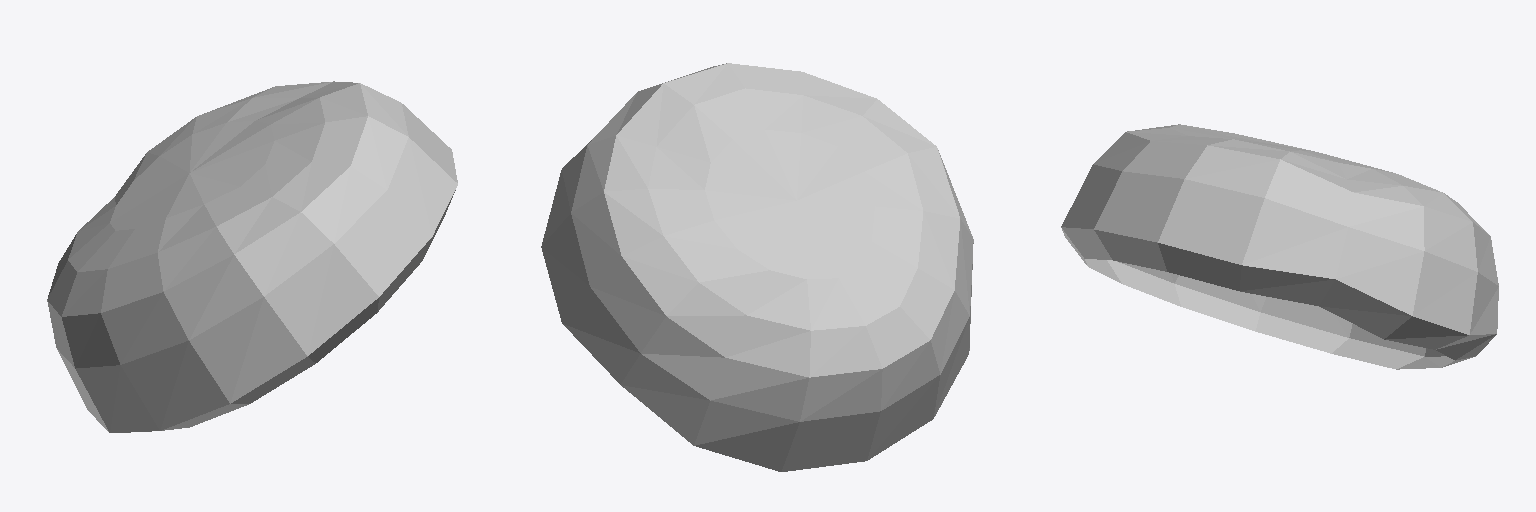
File: shroomTop4.obj
3 views of the same model, side by side, from view 1: azimuth 30°, elevation 25°; view 2: azimuth 150°, elevation 25°; view 3: azimuth 270°, elevation 25° (orthographic).
Visible parts, largest first — view 1: shroomTop4; view 2: shroomTop4; view 3: shroomTop4.
Part boxes in pixels (x1,y1,x2,y2): shroomTop4: (47,81,457,432); shroomTop4: (541,63,973,471); shroomTop4: (1061,124,1498,369).
Bounding box in the file's own units: 14.63 × 11.57 × 15.54.